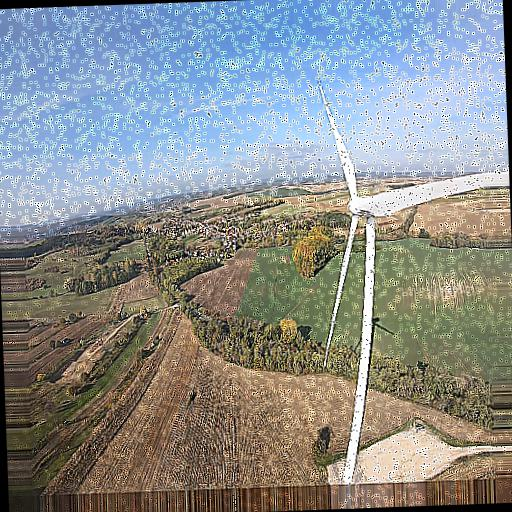wind turbine: (318, 86, 508, 483)
